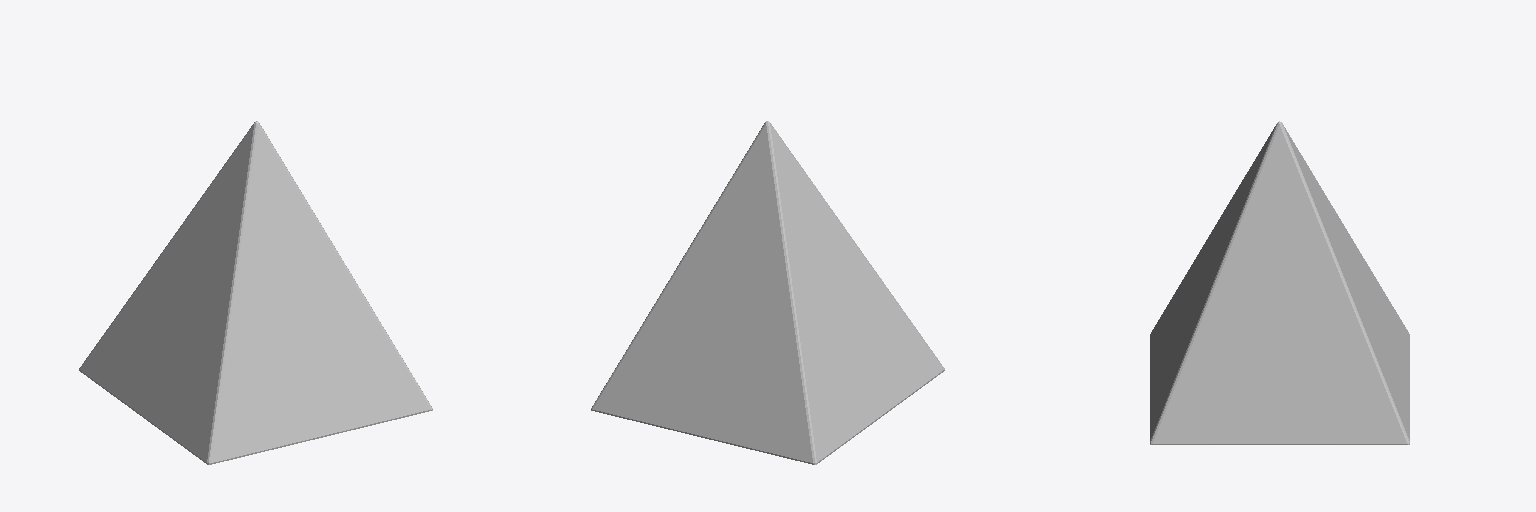
File: Block7HIGHTRIANGLE.obj
The picture shows the model from 3 angles: view 1: azimuth 30°, elevation 25°; view 2: azimuth 150°, elevation 25°; view 3: azimuth 270°, elevation 25°; orthographic projection.
Visible parts, largest first — view 1: pCube1; view 2: pCube1; view 3: pCube1.
Boxes of the visible parts, box(x1,y1,x2,y2) form: pCube1: box(79, 121, 432, 464); pCube1: box(591, 121, 944, 464); pCube1: box(1150, 121, 1409, 444).
Size of the model in its own units: 198 by 227 by 198.